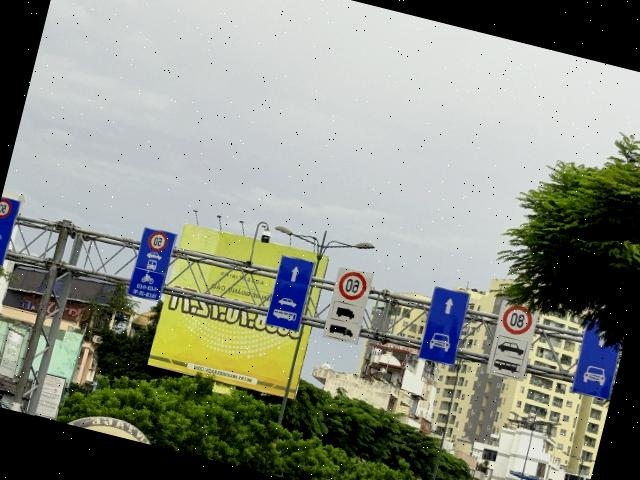toc-do-toi-da-cho-phep: (499, 302, 535, 338), (335, 268, 369, 302), (146, 229, 168, 252), (0, 198, 14, 221)
